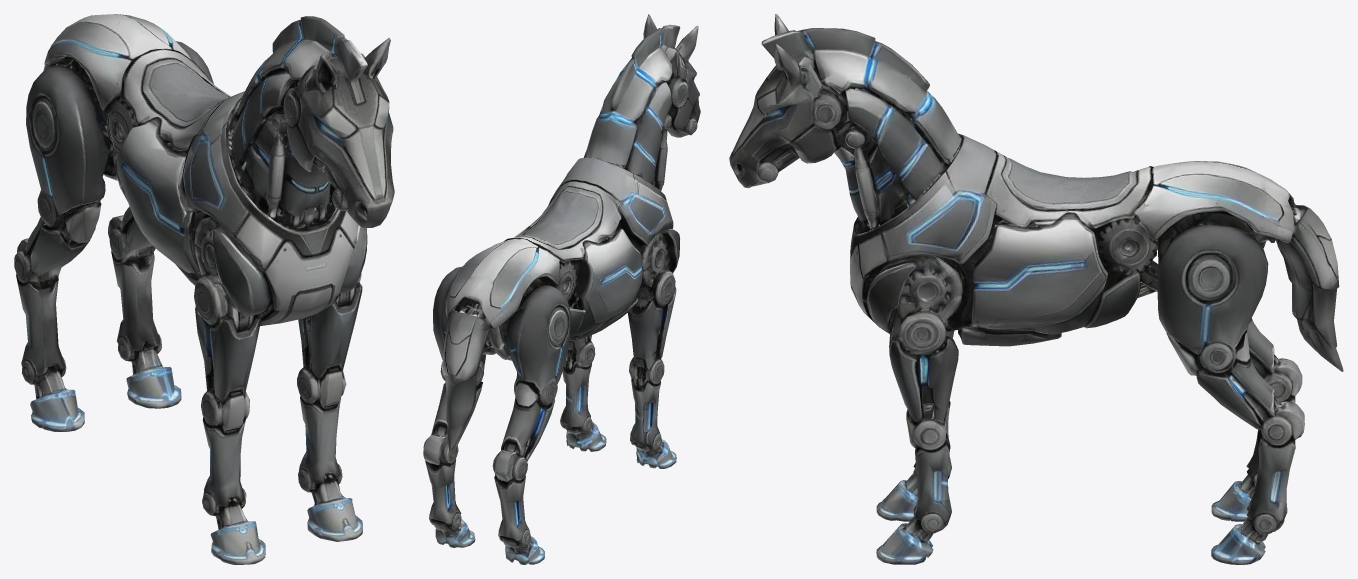
3 views of the same model, side by side, from view 1: azimuth 30°, elevation 25°; view 2: azimuth 150°, elevation 25°; view 3: azimuth 270°, elevation 25° (orthographic). The views are drawn at different scales.
Parts seen in each view (by area): view 1: Mesh_0; view 2: Mesh_0; view 3: Mesh_0.
Boxes of the visible parts, x1,y1,x2,y2 form: Mesh_0: (14,14,394,564); Mesh_0: (423,14,700,564); Mesh_0: (729,14,1343,564).
Size of the model in its own units: 0.5368 by 1.73 by 1.91.
1 material, 1 textured.
